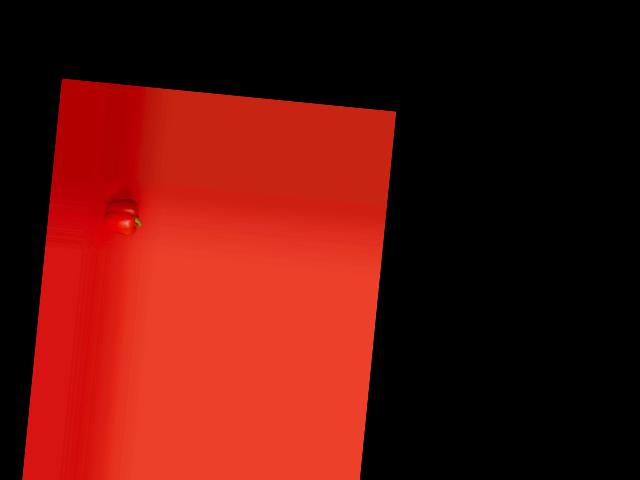bell_pepper: (100, 195, 145, 235)
